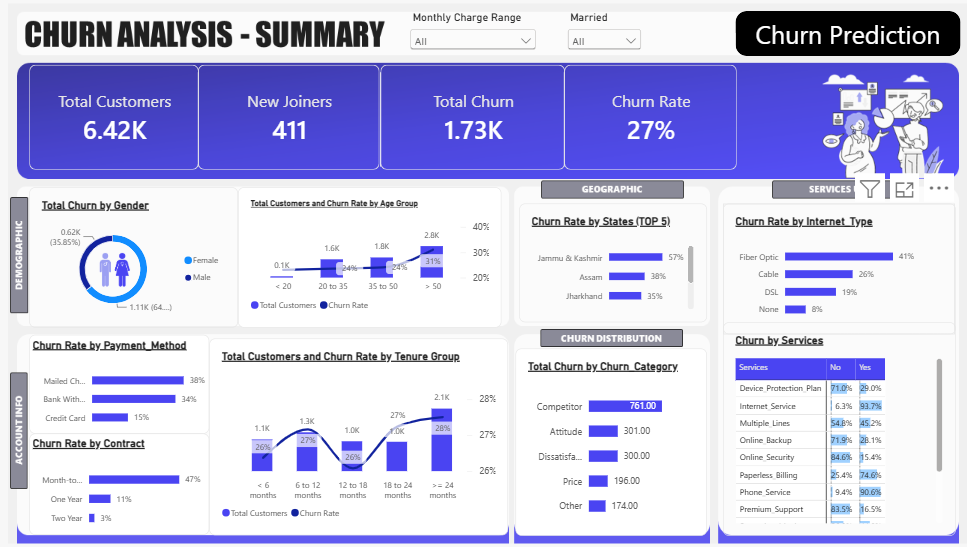

This screenshot's page, from the dashboard's own definition file:
{"tool":"powerbi","page":{"name":"Summary","canvas":[1920,1080],"ordinal":0},"visuals":[{"type":"image","box":[408.3,501.7,108.5,58.5],"z":0},{"type":"cardVisual","fields":{"Data":["tbl_Measures.Total Customers"]},"box":[348,258,226,140],"z":1000},{"type":"cardVisual","fields":{"Data":["tbl_Measures.New Joiners"]},"box":[574,258,242,140],"z":2000},{"type":"cardVisual","fields":{"Data":["tbl_Measures.Total Churn"]},"box":[816,258,246,140],"z":3000},{"type":"donutChart","fields":{"Category":["prod_Churn.Gender"],"Y":["tbl_Measures.Total Churn"]},"box":[348.3,421.7,278.5,186.9],"z":4000},{"type":"cardVisual","fields":{"Data":["tbl_Measures.Churn Rate"]},"box":[1062,258,230,140],"z":5000},{"type":"lineStackedColumnComboChart","fields":{"Category":["Mapping_ageGrp.Age Group"],"Y":["tbl_Measures.Total Customers"],"Y2":["tbl_Measures.Churn Rate"]},"box":[626.2,422.3,351.5,186.9],"z":6000},{"type":"clusteredBarChart","fields":{"Category":["prod_Churn.Payment_Method"],"Y":["tbl_Measures.Churn Rate"]},"box":[347.7,617.7,240,132.3],"z":7000},{"type":"clusteredBarChart","fields":{"Category":["prod_Churn.Contract"],"Y":["tbl_Measures.Churn Rate"]},"box":[347.7,750,240,135.4],"z":8000},{"type":"lineStackedColumnComboChart","fields":{"Category":["mapping_TenureGrp.Tenure Group"],"Y":["tbl_Measures.Total Customers"],"Y2":["tbl_Measures.Churn Rate"]},"box":[587.7,623.1,398.5,262.3],"z":9000},{"type":"clusteredBarChart","title":"Churn Rate by States (TOP 5)","fields":{"Category":["prod_Churn.State"],"Y":["tbl_Measures.Churn Rate"]},"box":[1002,444,250,158],"z":10000},{"type":"clusteredBarChart","fields":{"Category":["prod_Churn.Churn_Category"],"Y":["tbl_Measures.Total Churn"]},"box":[996.9,636.2,255.4,249.2],"z":11000},{"type":"clusteredBarChart","fields":{"Category":["prod_Churn.Internet_Type"],"Y":["tbl_Measures.Churn Rate"]},"box":[1274,444,310,174],"z":12000},{"type":"pivotTable","title":"Churn by Services","fields":{"Rows":["prod_Services.Services"],"Columns":["prod_Services.Status"],"Values":["Sum(prod_Services.Churn Status)"]},"box":[1273.3,601.7,310,285],"z":13000},{"type":"slicer","fields":{"Values":["prod_Services.Monthly Charge Status"]},"box":[852,186,177.1,71.4],"z":14000},{"type":"slicer","fields":{"Values":["prod_Services.Married"]},"box":[1062,186,107.1,67.1],"z":15000},{"type":"textbox","box":[1631.7,40,180,218.3],"z":16000},{"type":"shape","box":[1290,186.7,300,60],"z":16001}]}

Visuals, with their boxes in screenshot pixels (x1, y1, x2, y2), scaled from the page's 1920x1080 canvas onto the 967x547 screenshot:
image: BBox(206, 254, 260, 284)
cardVisual - tbl_Measures.Total Customers: BBox(175, 131, 289, 202)
cardVisual - tbl_Measures.New Joiners: BBox(289, 131, 411, 202)
cardVisual - tbl_Measures.Total Churn: BBox(411, 131, 535, 202)
donutChart - prod_Churn.Gender x tbl_Measures.Total Churn: BBox(175, 214, 316, 308)
cardVisual - tbl_Measures.Churn Rate: BBox(535, 131, 651, 202)
lineStackedColumnComboChart - Mapping_ageGrp.Age Group x tbl_Measures.Total Customers: BBox(315, 214, 492, 309)
clusteredBarChart - prod_Churn.Payment_Method x tbl_Measures.Churn Rate: BBox(175, 313, 296, 380)
clusteredBarChart - prod_Churn.Contract x tbl_Measures.Churn Rate: BBox(175, 380, 296, 448)
lineStackedColumnComboChart - mapping_TenureGrp.Tenure Group x tbl_Measures.Total Customers: BBox(296, 316, 497, 448)
"Churn Rate by States (TOP 5)" clusteredBarChart: BBox(505, 225, 631, 305)
clusteredBarChart - prod_Churn.Churn_Category x tbl_Measures.Total Churn: BBox(502, 322, 631, 448)
clusteredBarChart - prod_Churn.Internet_Type x tbl_Measures.Churn Rate: BBox(642, 225, 798, 313)
"Churn by Services" pivotTable: BBox(641, 305, 797, 449)
slicer - prod_Services.Monthly Charge Status: BBox(429, 94, 518, 130)
slicer - prod_Services.Married: BBox(535, 94, 589, 128)
textbox: BBox(822, 20, 912, 131)
shape: BBox(650, 95, 801, 125)
